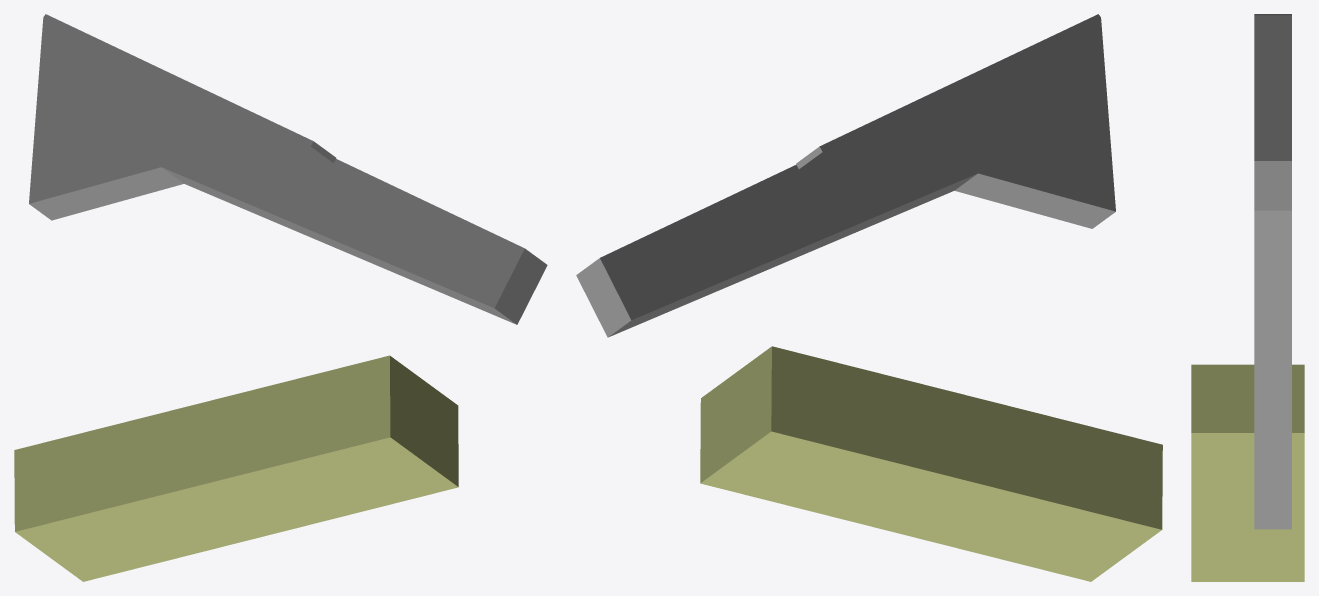
The picture shows the model from 3 angles, left to right: view 1: azimuth 30°, elevation 25°; view 2: azimuth 150°, elevation 25°; view 3: azimuth 270°, elevation 25°; orthographic projection. The views are drawn at different scales.
Parts seen in each view (by area): view 1: 0_3_2_0_3_2_1_1_2; view 2: 0_3_2_0_3_2_1_1_2; view 3: 0_3_2_0_3_2_1_1_2.
Part boxes in pixels (x1,y1,x2,y2): 0_3_2_0_3_2_1_1_2: (14, 14, 547, 581); 0_3_2_0_3_2_1_1_2: (576, 14, 1162, 581); 0_3_2_0_3_2_1_1_2: (1191, 14, 1304, 581).
Size of the model in its own units: 38.24 by 37.62 by 9.
